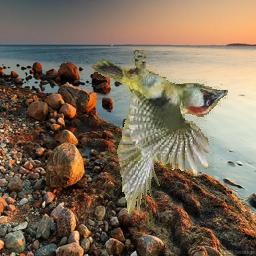Woodpecker: (91, 50, 230, 218)
